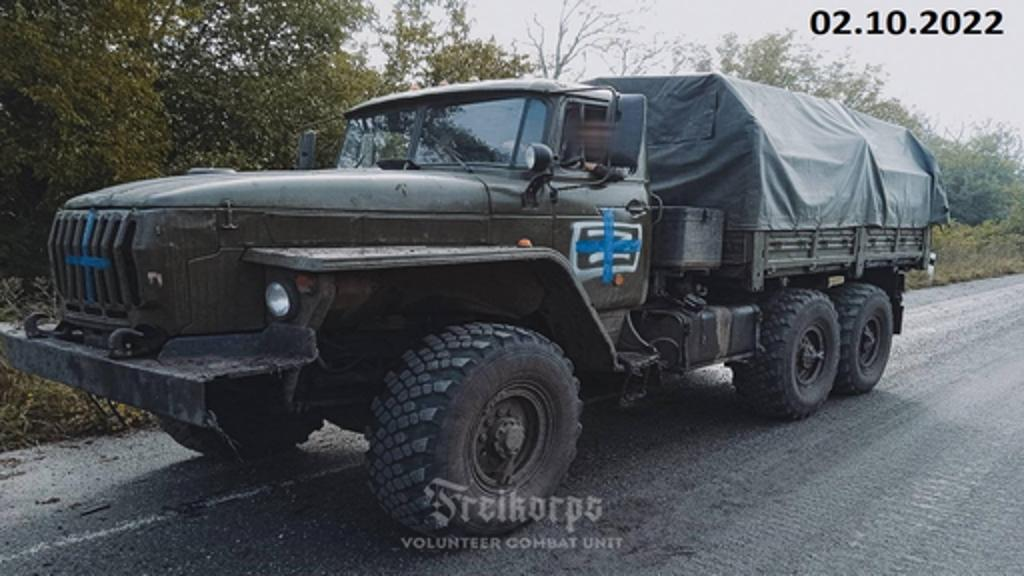TRUCK: (0, 66, 950, 546)
